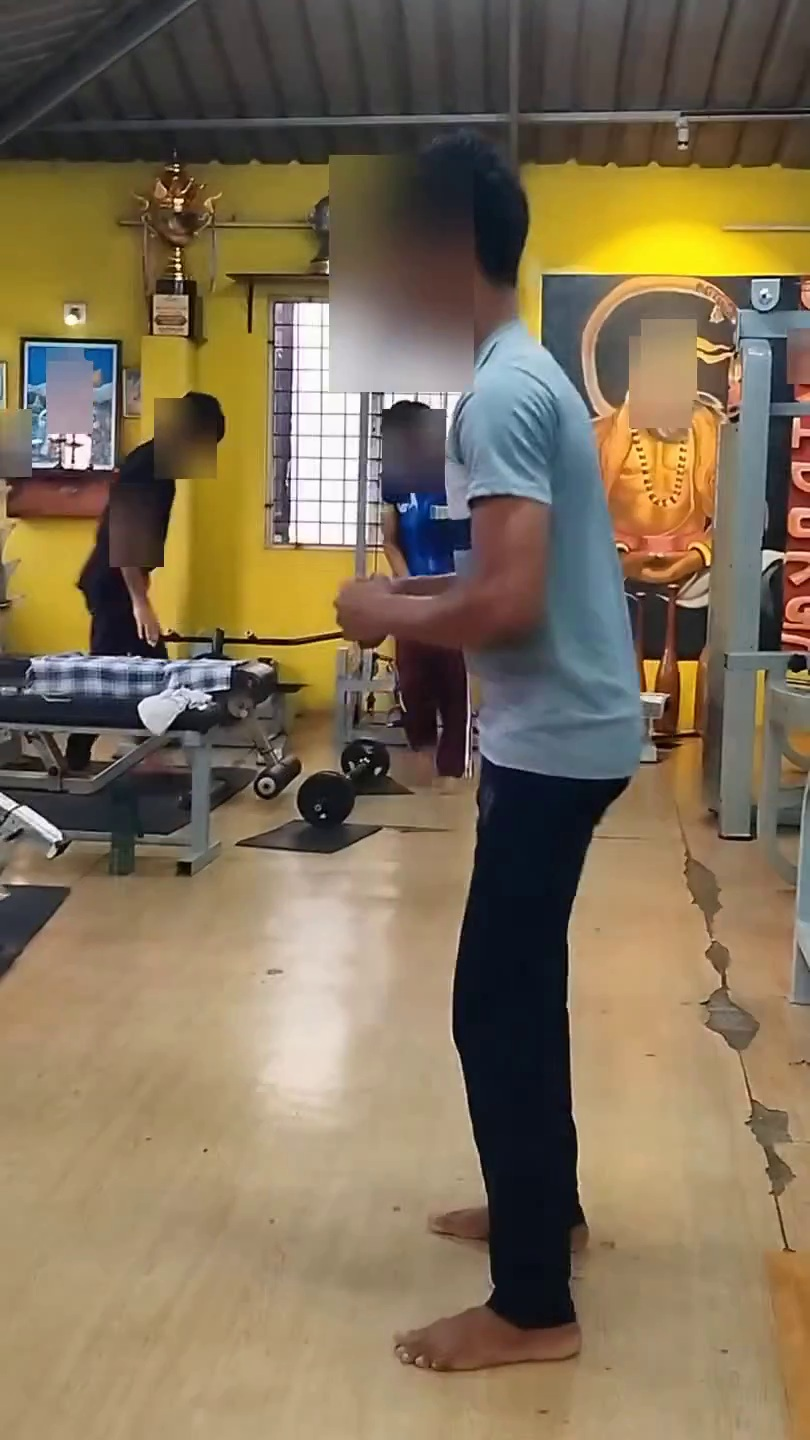squat_incorrect: (266, 169, 667, 1424)
